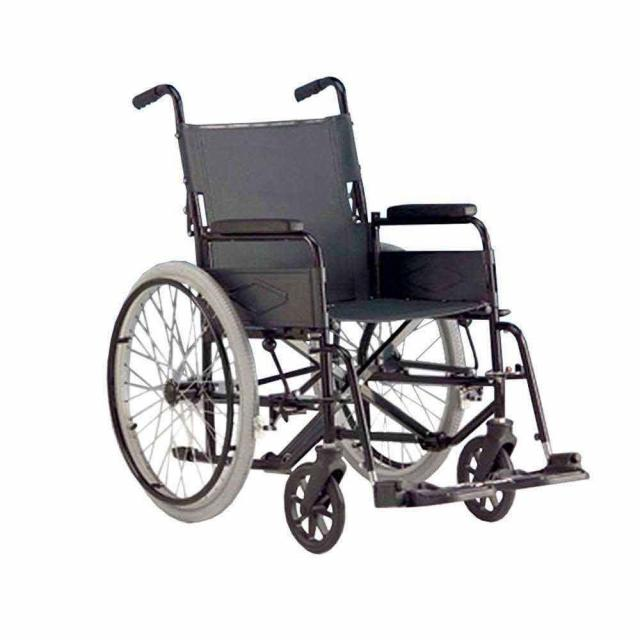wheelchair: (112, 53, 596, 557)
